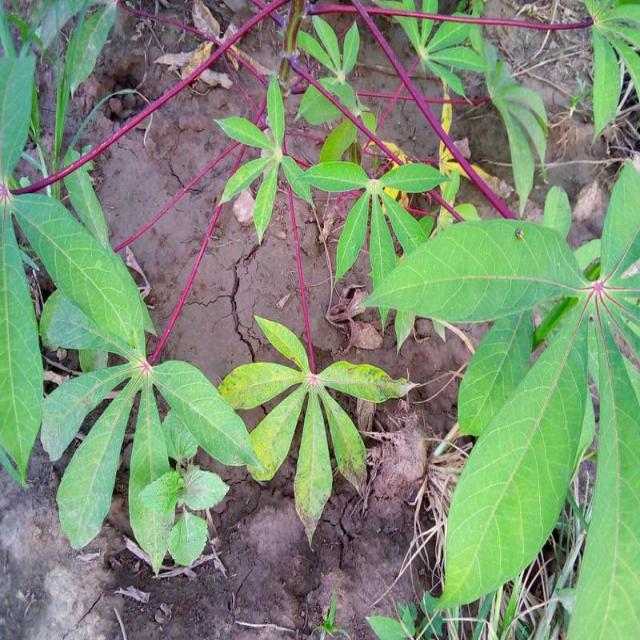cassava leaf: (359, 159, 640, 636), (427, 297, 596, 612), (218, 312, 418, 550), (356, 214, 594, 330), (10, 188, 154, 362)
